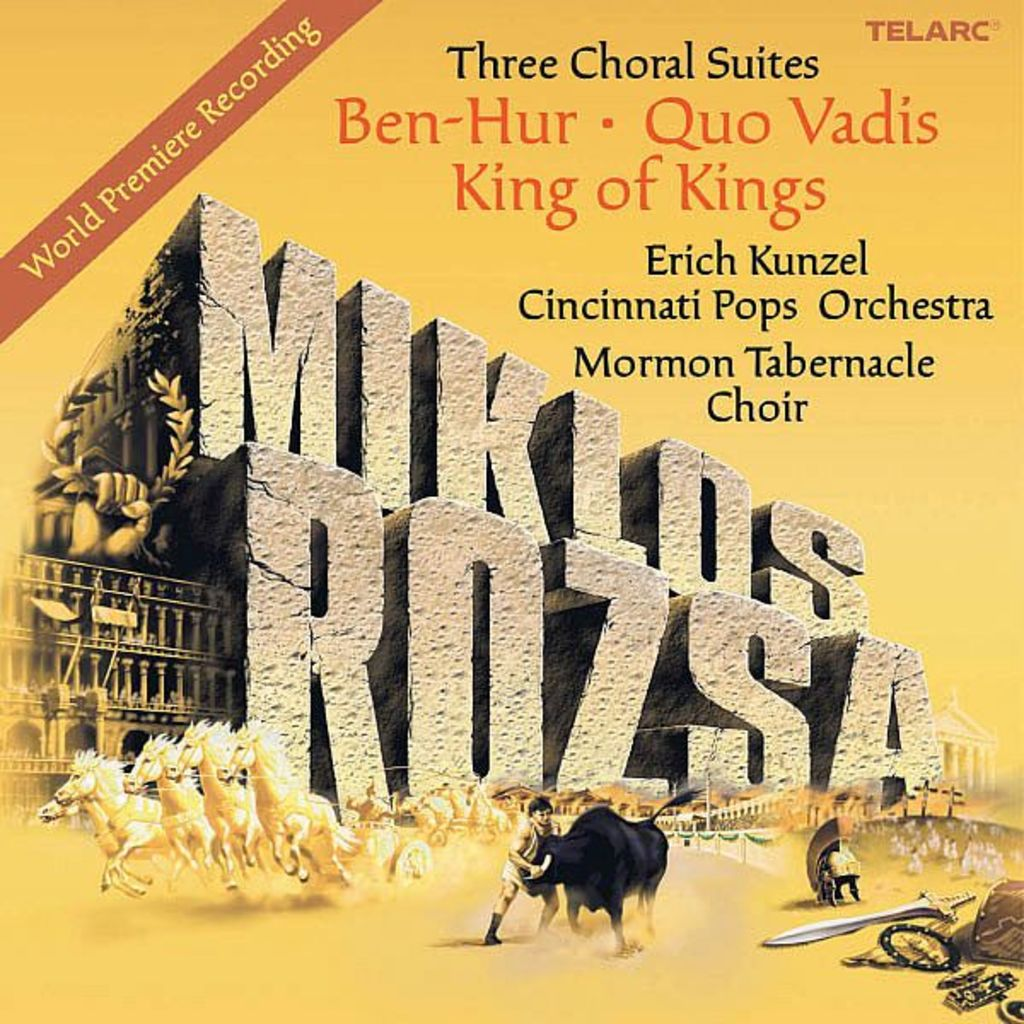Animal: (514, 780, 704, 958)
